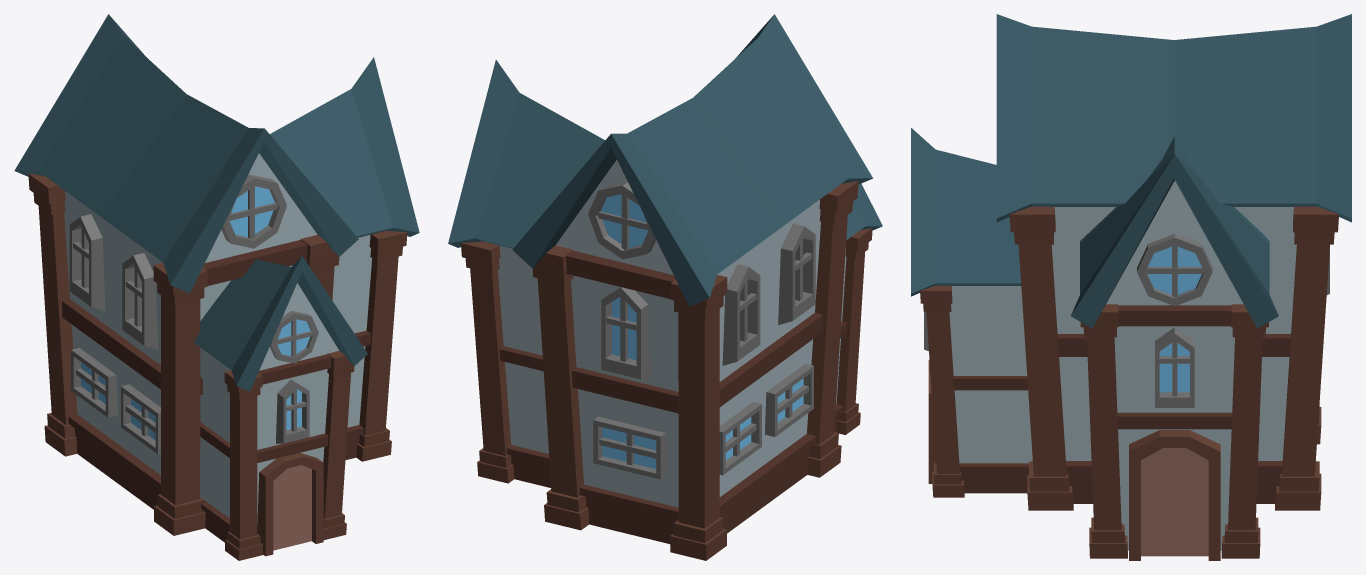
Rendered from CASA06.fbx.
The picture shows the model from 3 angles, left to right: view 1: azimuth 30°, elevation 25°; view 2: azimuth 150°, elevation 25°; view 3: azimuth 270°, elevation 25°; orthographic projection. The views are drawn at different scales.
Visible parts, largest first — view 1: CASA06; view 2: CASA06; view 3: CASA06.
Part boxes in pixels (x1,y1,x2,y2): CASA06: (14,14,419,560); CASA06: (448,14,882,560); CASA06: (911,14,1351,560).
Size of the model in its own units: 876 by 1185 by 1043.
Materials: 1 (1 with a texture image).
